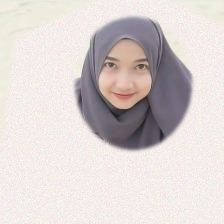Mukena: (21, 4, 224, 224)
